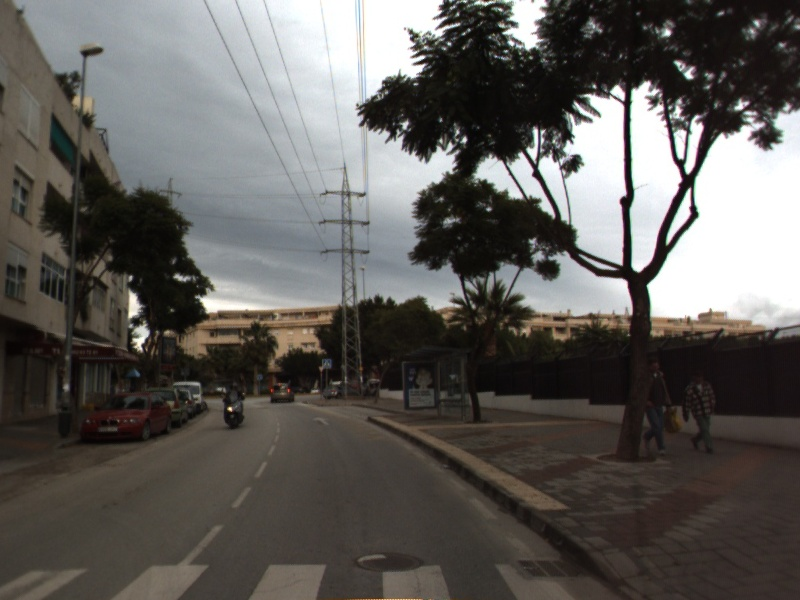STRAIGHT: (310, 414, 332, 427)
